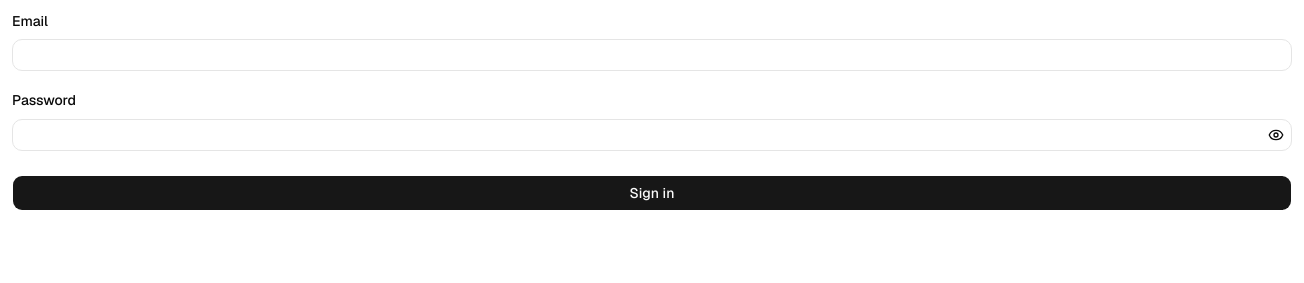
Test case: SigninForm › validates the email and requires a password without signup rules
Type "nope" into the field labelled "Email" at (652, 55), box top-left (12, 39), bottom-right (1292, 71)
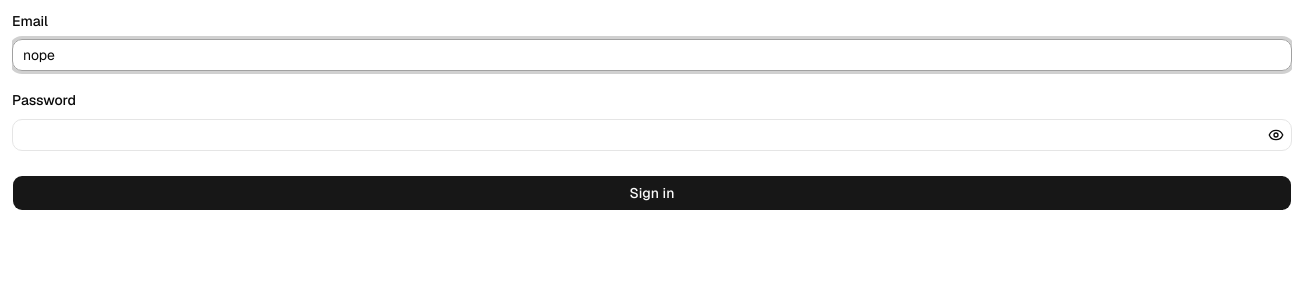
Click the button "Sign in" at (652, 192), box top-left (12, 174), bottom-right (1292, 210)
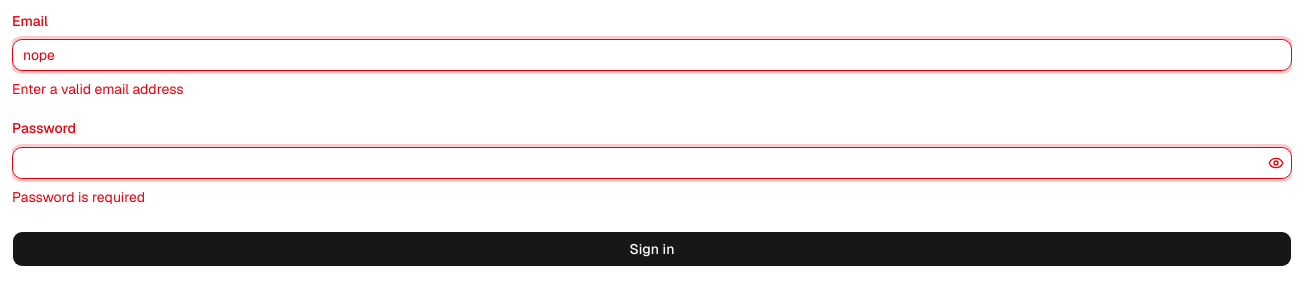
Now the text "Enter a valid email address" is shown, box top-left (12, 80), bottom-right (184, 98)
Now the text "Password is required" is shown, box top-left (12, 188), bottom-right (145, 206)
